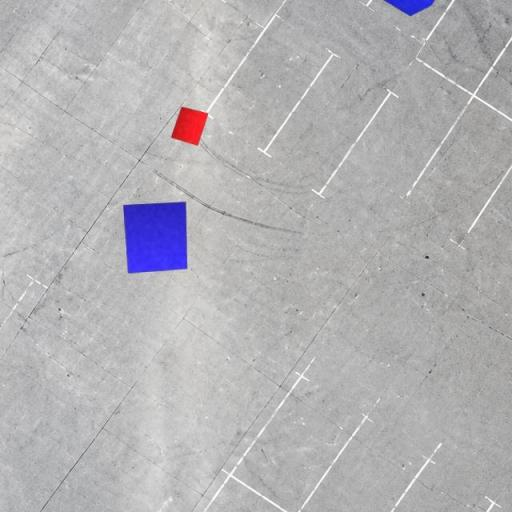BLUE_SQUARE: (123, 202, 188, 274)
RED_SQUARE: (170, 106, 209, 146)
